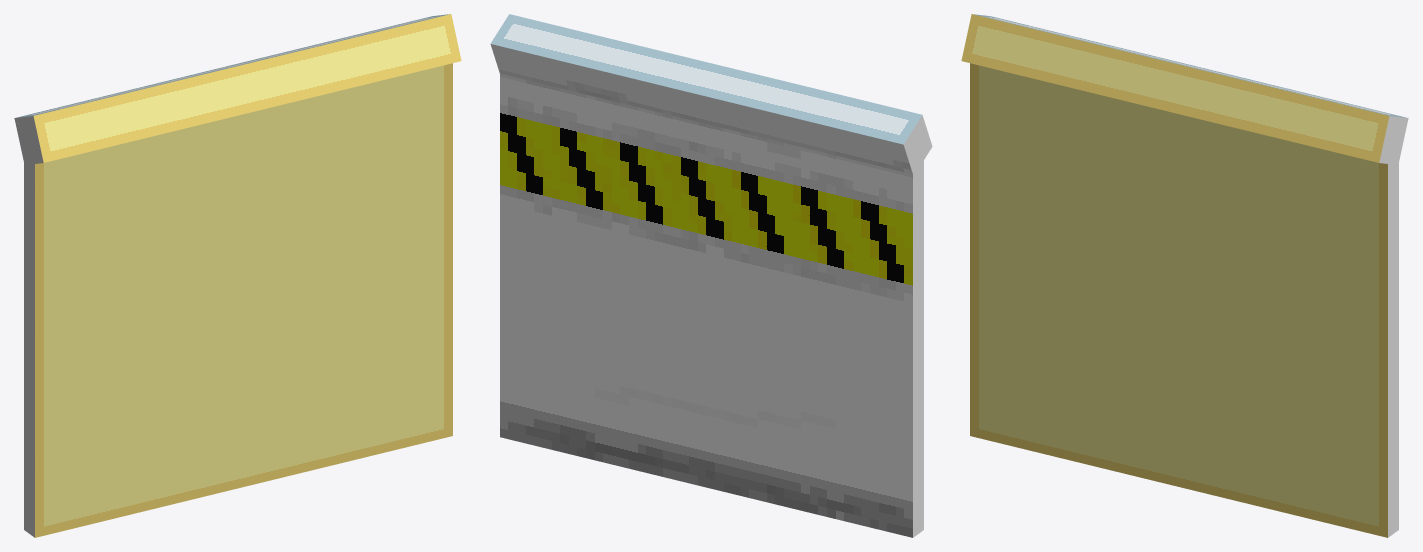
File: Lab_wall1.gltf
3 renders of one model, left to right at view 1: azimuth 30°, elevation 25°; view 2: azimuth 150°, elevation 25°; view 3: azimuth 330°, elevation 25°, orthographic.
Parts seen in each view (by area): view 1: Lab_wall1; view 2: Lab_wall1; view 3: Lab_wall1.
Boxes of the visible parts, x1,y1,x2,y2 form: Lab_wall1: (14,14,461,537); Lab_wall1: (490,14,932,537); Lab_wall1: (961,14,1408,537).
Bounding box in the file's own units: 3 × 2.89 × 0.3647.
1 material, 1 textured.
